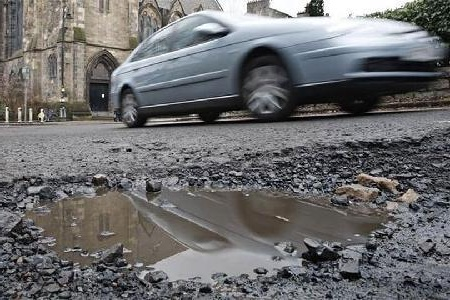pothole: (4, 156, 405, 287)
